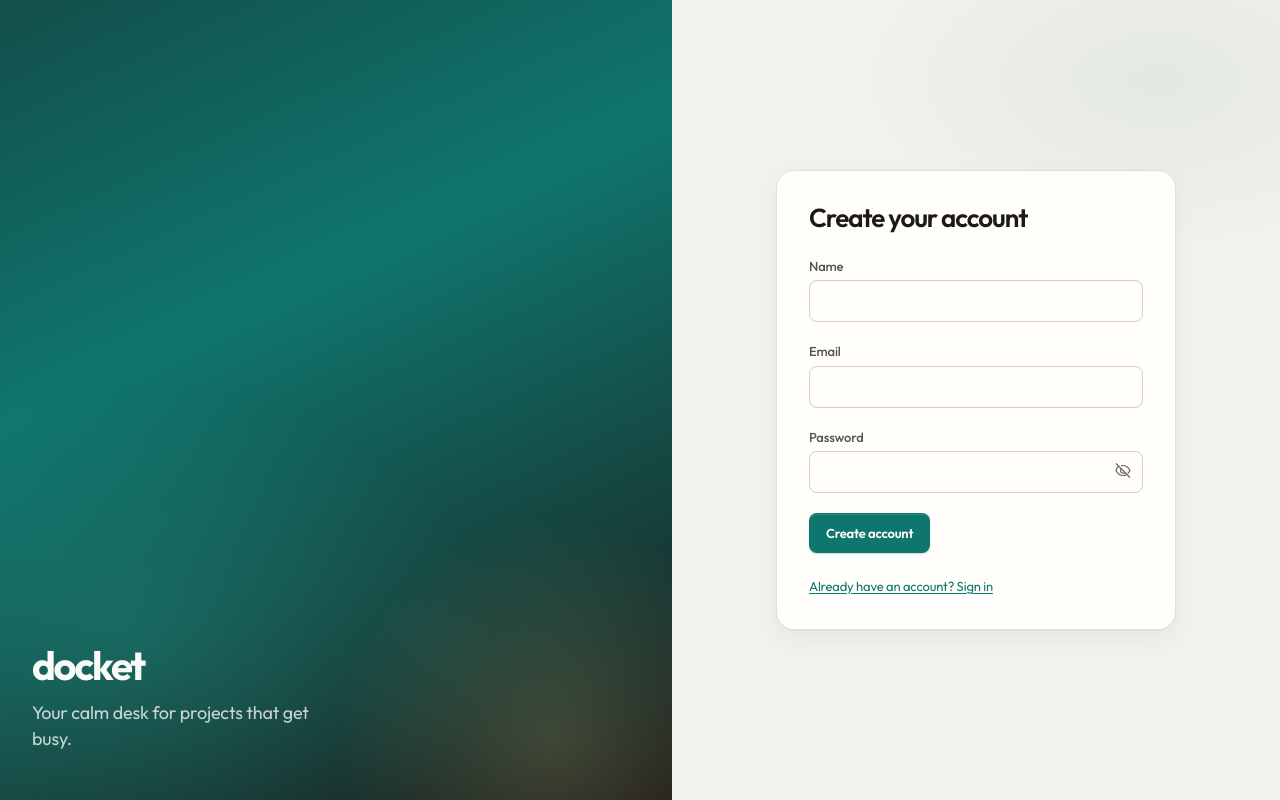
Test: RegisterPage › shows a check-your-email panel on successful registration
Type "Ana" into the field labelled "Name".
click(976, 301); type("Ana")  # box x1=809 y1=280 x2=1143 y2=322
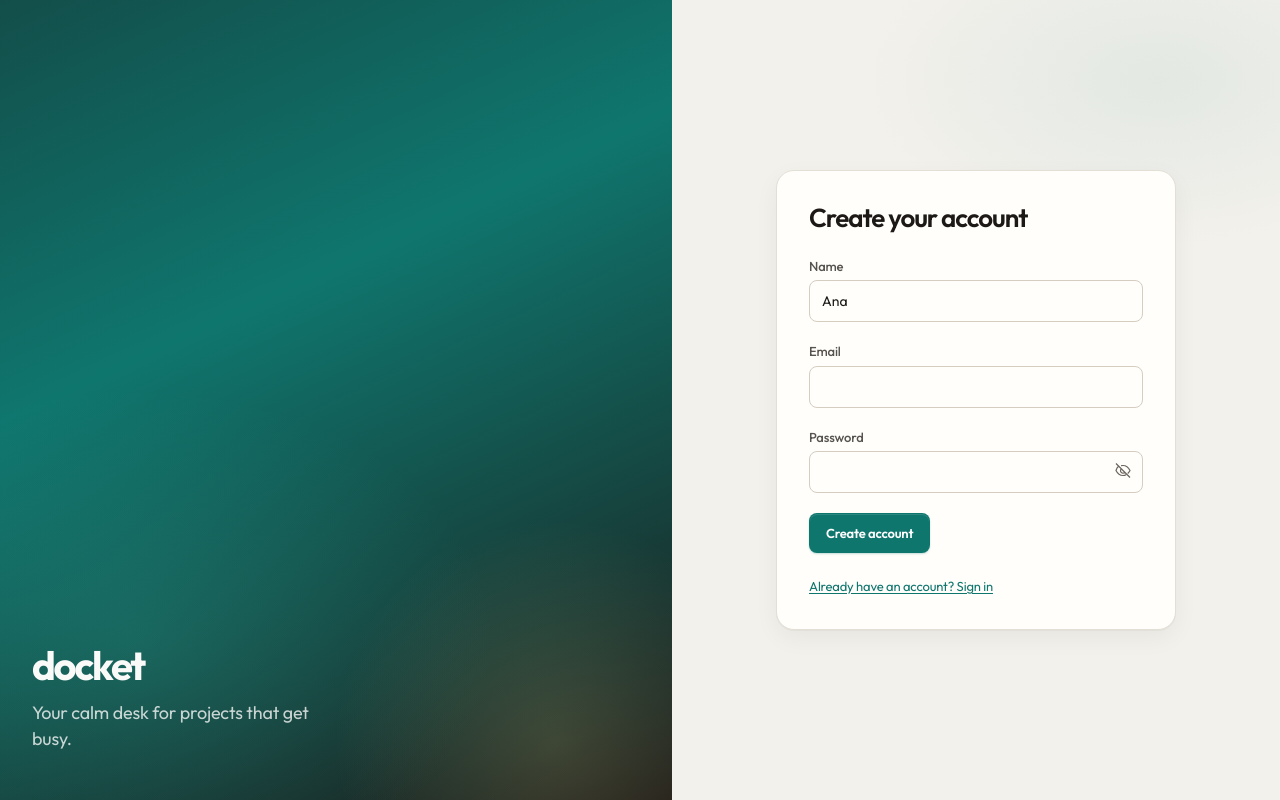
Type "ana@example.com" into the field labelled "Email".
click(976, 386); type("ana@example.com")  # box x1=809 y1=366 x2=1143 y2=408
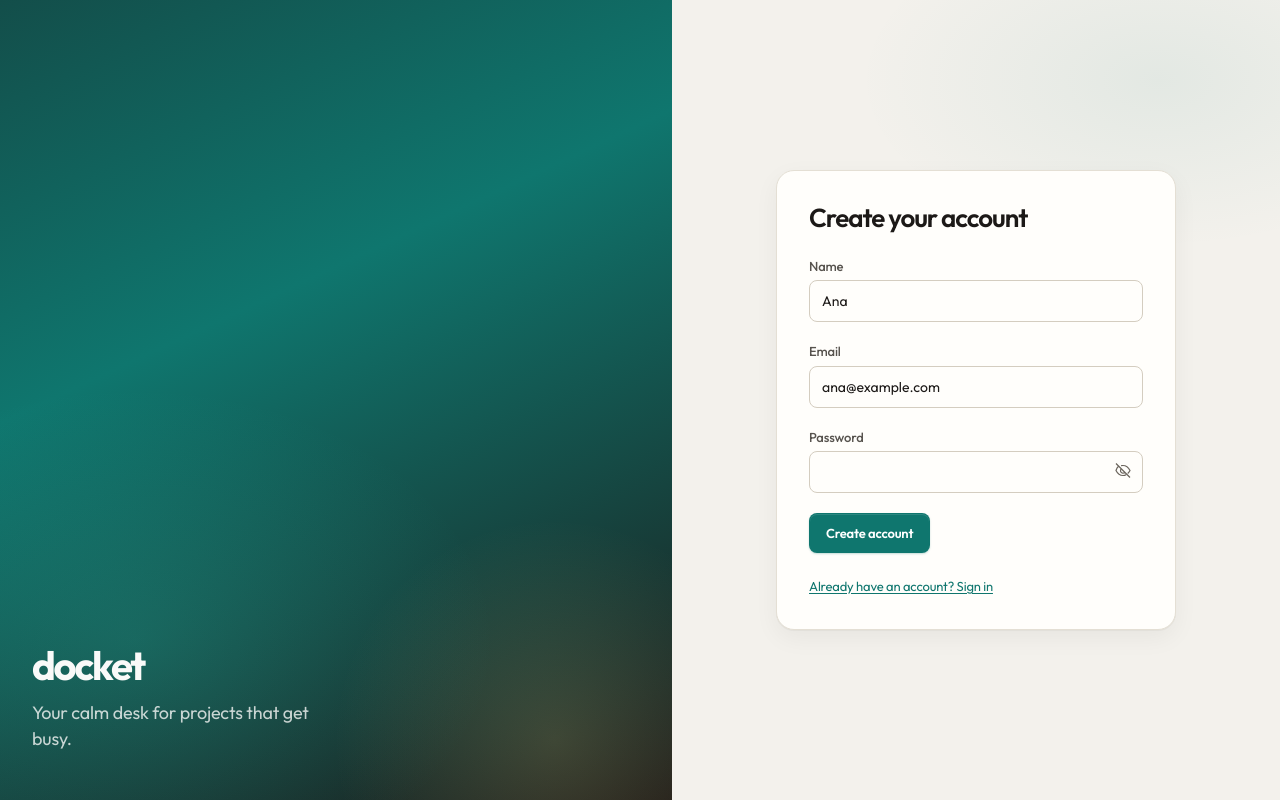
Type "password123" into the password field labelled "Password".
click(976, 472); type("password123")  # box x1=809 y1=451 x2=1143 y2=493
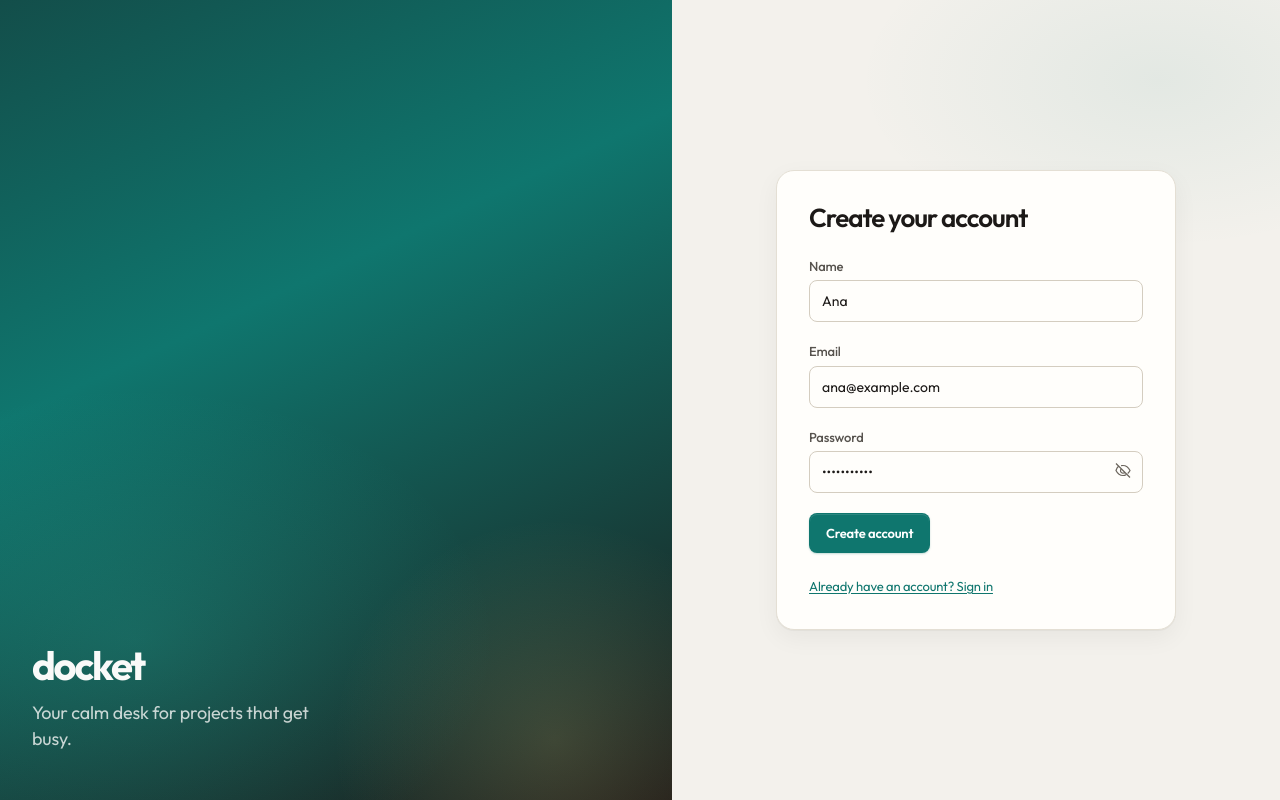
Click the button "Create account".
click(870, 533)  # box x1=809 y1=513 x2=930 y2=553
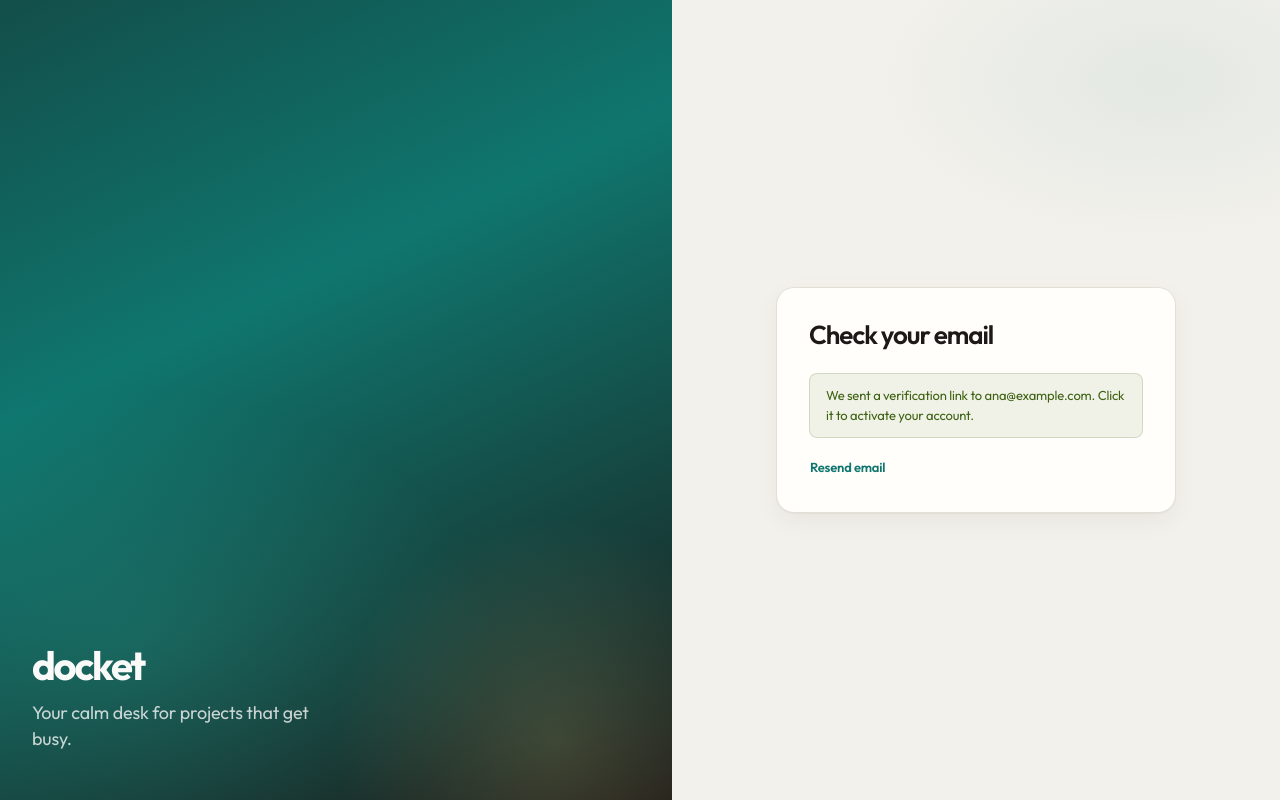
Expected: the text "We sent a verification link to ana@example.com" is shown, x1=809 y1=373 x2=1143 y2=438
